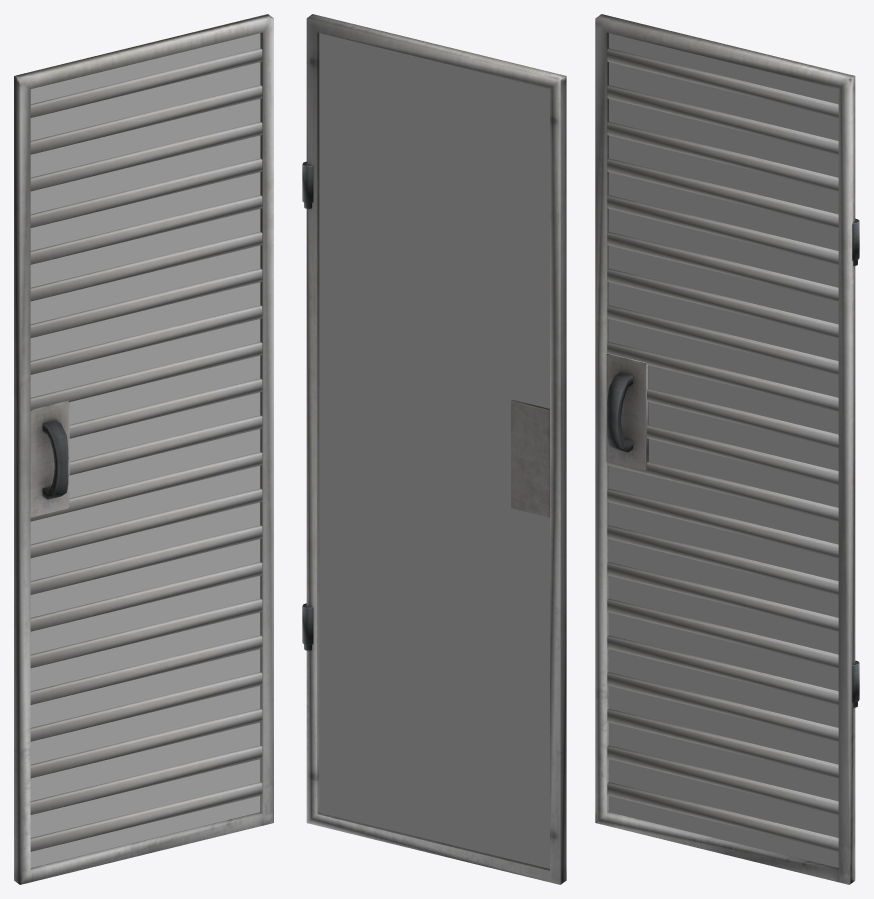
Rendered from shelf_glass_doors_door_right.dae.
The picture shows the model from 3 angles, left to right: view 1: azimuth 30°, elevation 25°; view 2: azimuth 150°, elevation 25°; view 3: azimuth 330°, elevation 25°; orthographic projection.
Parts seen in each view (by area): view 1: door_right_glass, door_right; view 2: door_right_glass, door_right; view 3: door_right_glass, door_right.
Part boxes in pixels (x1=…): door_right_glass: x1=30, y1=33, x2=260, y2=867; door_right: x1=14, y1=14, x2=273, y2=884; door_right_glass: x1=319, y1=33, x2=549, y2=868; door_right: x1=302, y1=14, x2=566, y2=884; door_right_glass: x1=609, y1=33, x2=838, y2=867; door_right: x1=595, y1=14, x2=859, y2=884.
Bounding box in the file's own units: 0.7037 × 2.1 × 0.1031.
